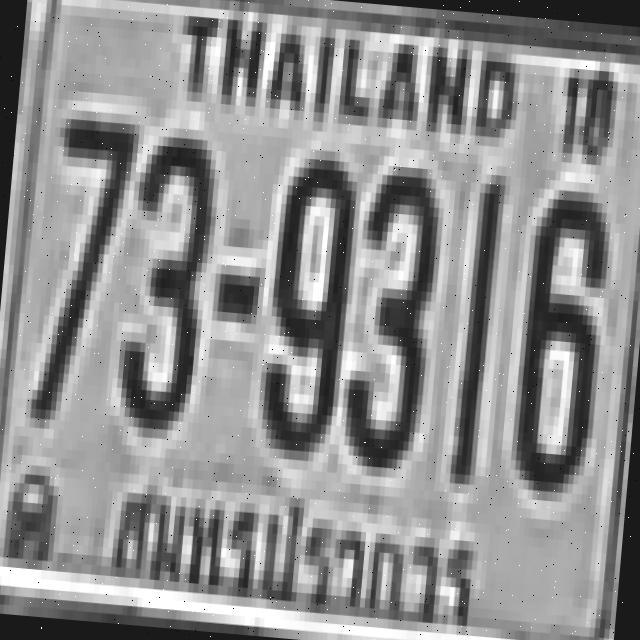1: (450, 168, 500, 480), (447, 173, 498, 475)
3: (111, 120, 216, 426), (338, 154, 438, 460)
6: (509, 178, 609, 484)
7: (30, 103, 136, 420)
9: (254, 146, 354, 452)
SamutPrakan: (93, 451, 491, 640)
